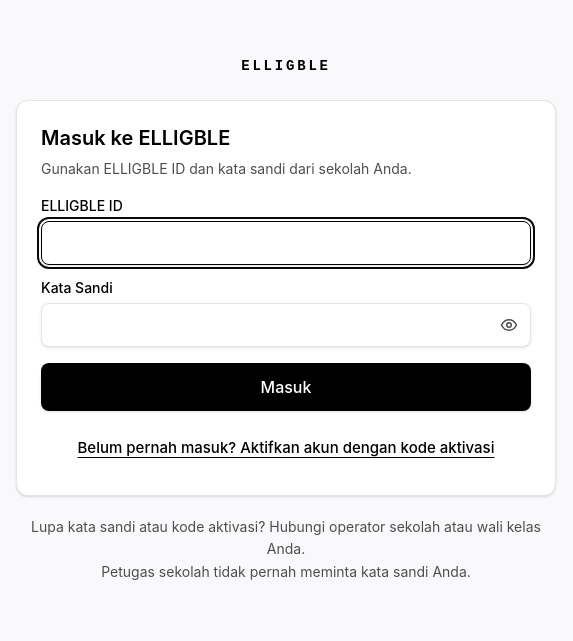
session gate › explains throttling after too many attempts
Type "siswa.satu" into the field labelled "ELLIGBLE ID".
click(286, 243); type("siswa.satu")  # box [41, 221, 531, 265]
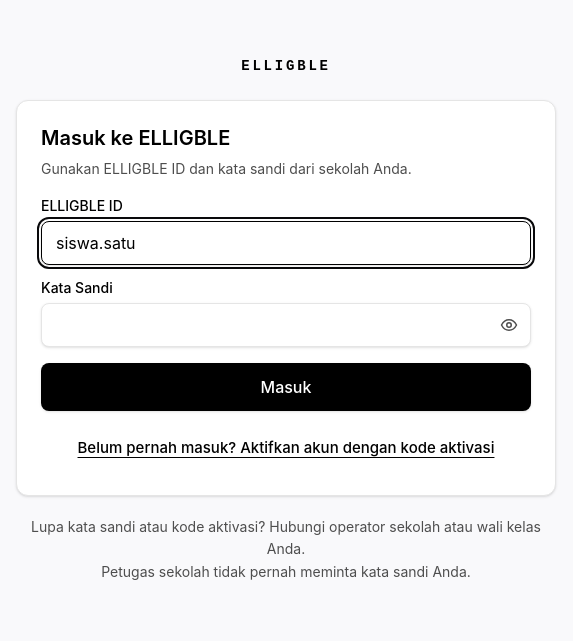
Type "x" into the password field labelled "Kata Sandi".
click(286, 325); type("x")  # box [41, 303, 531, 347]
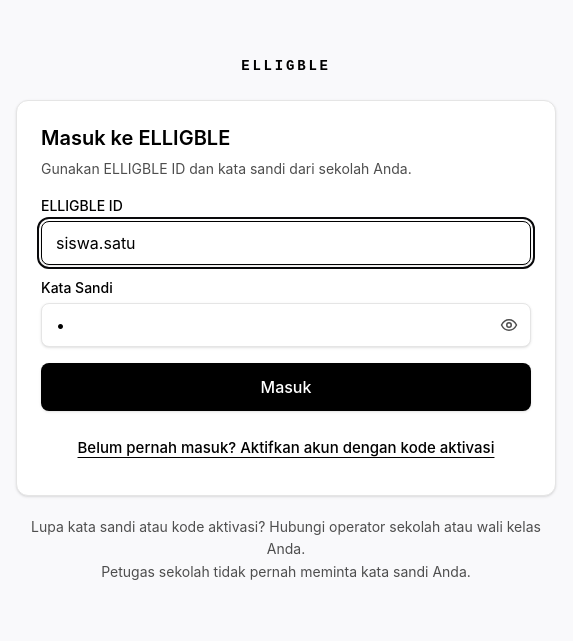
Click the button "Masuk".
click(286, 387)  # box [41, 363, 531, 411]
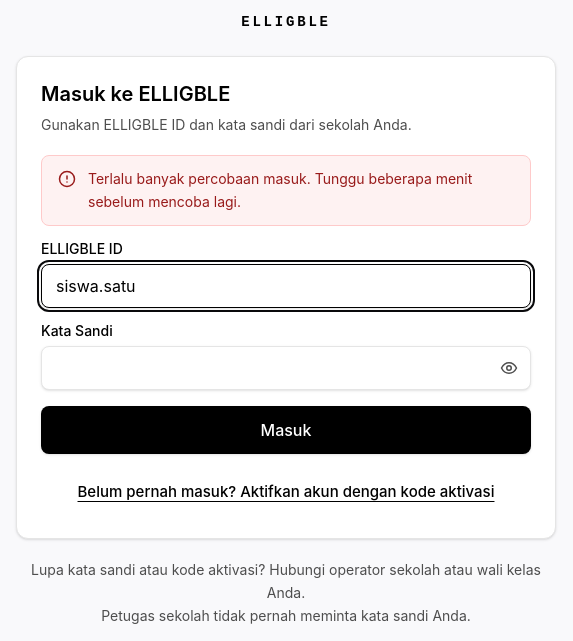
Now the text "Terlalu banyak percobaan masuk" is shown, box [88, 170, 472, 210]
